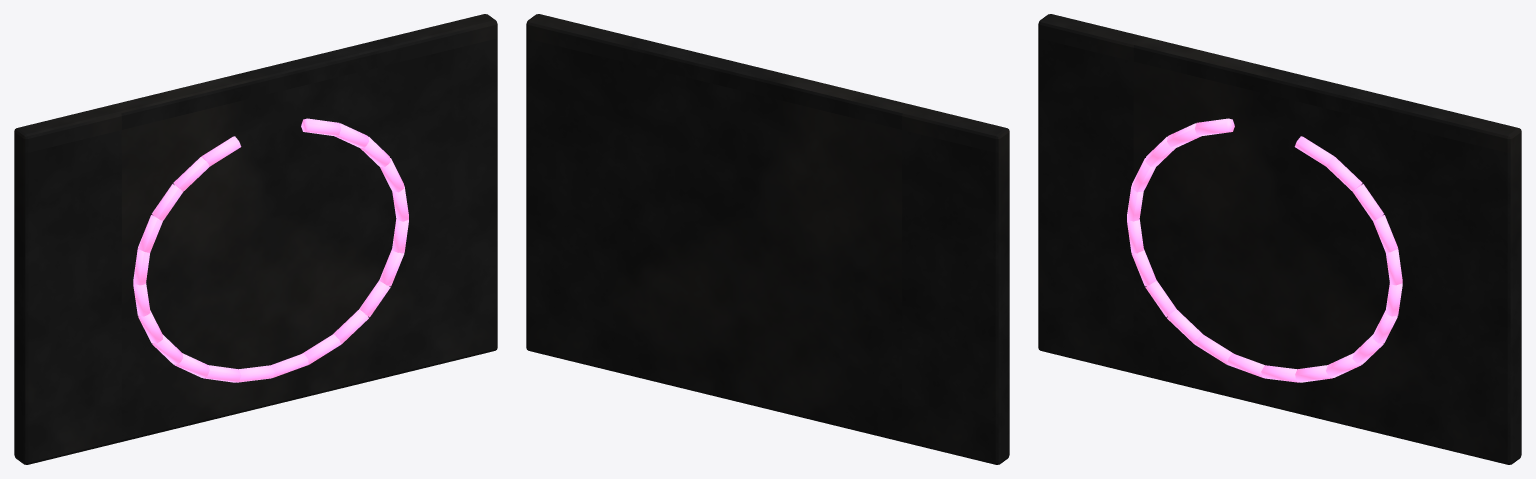
The model's file is U07_neon_sign_v1.glb.
3 renders of one model, left to right at view 1: azimuth 30°, elevation 25°; view 2: azimuth 150°, elevation 25°; view 3: azimuth 330°, elevation 25°, orthographic.
Visible parts, largest first — view 1: U07_neon_sign_v1; view 2: U07_neon_sign_v1; view 3: U07_neon_sign_v1.
Boxes of the visible parts, <box> form: U07_neon_sign_v1: <box>14,14,497,464</box>; U07_neon_sign_v1: <box>526,14,1009,464</box>; U07_neon_sign_v1: <box>1038,14,1521,464</box>.
Bounding box in the file's own units: 1 × 0.6667 × 0.0893.
2 materials, 2 textured.
